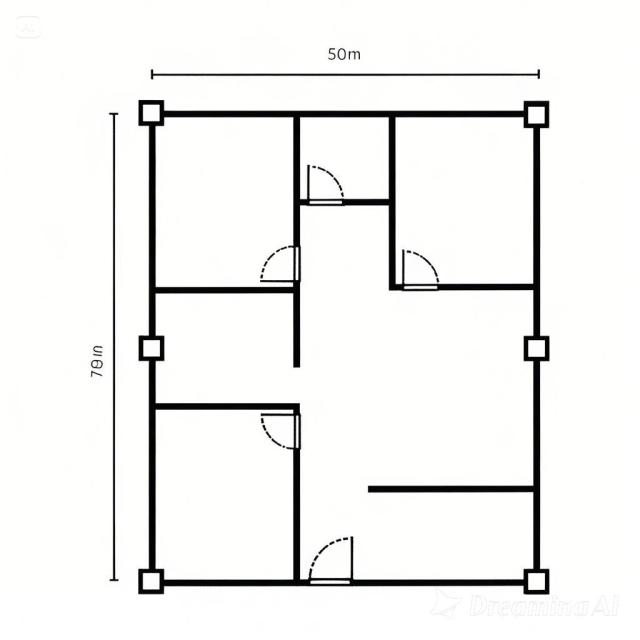Blueprint: (134, 94, 553, 598)
column: (518, 331, 553, 368), (518, 96, 552, 134), (134, 330, 169, 365), (134, 94, 168, 130), (520, 563, 554, 599), (134, 563, 168, 598)
wall: (165, 108, 524, 119), (146, 126, 158, 337), (531, 360, 542, 570), (147, 360, 158, 570), (532, 128, 542, 336), (352, 576, 524, 588), (387, 118, 398, 291), (155, 284, 293, 296), (368, 484, 534, 493), (163, 578, 310, 588), (291, 448, 301, 586), (156, 400, 294, 410), (292, 118, 302, 247), (437, 282, 533, 292), (292, 281, 301, 368), (293, 402, 302, 415), (396, 283, 404, 291)
